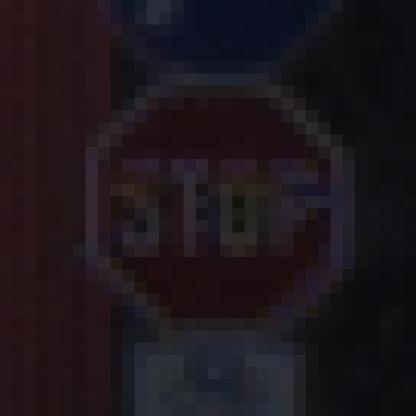stop: (87, 89, 358, 350)
